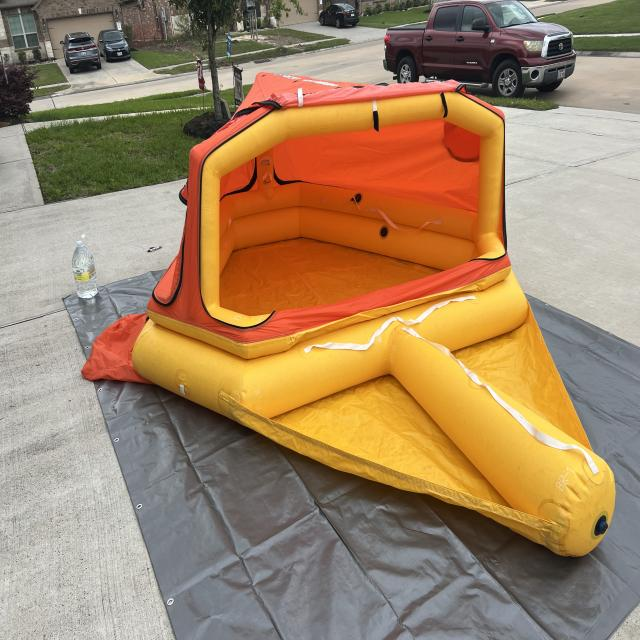Multi-person_life_raft: (80, 74, 614, 560)
